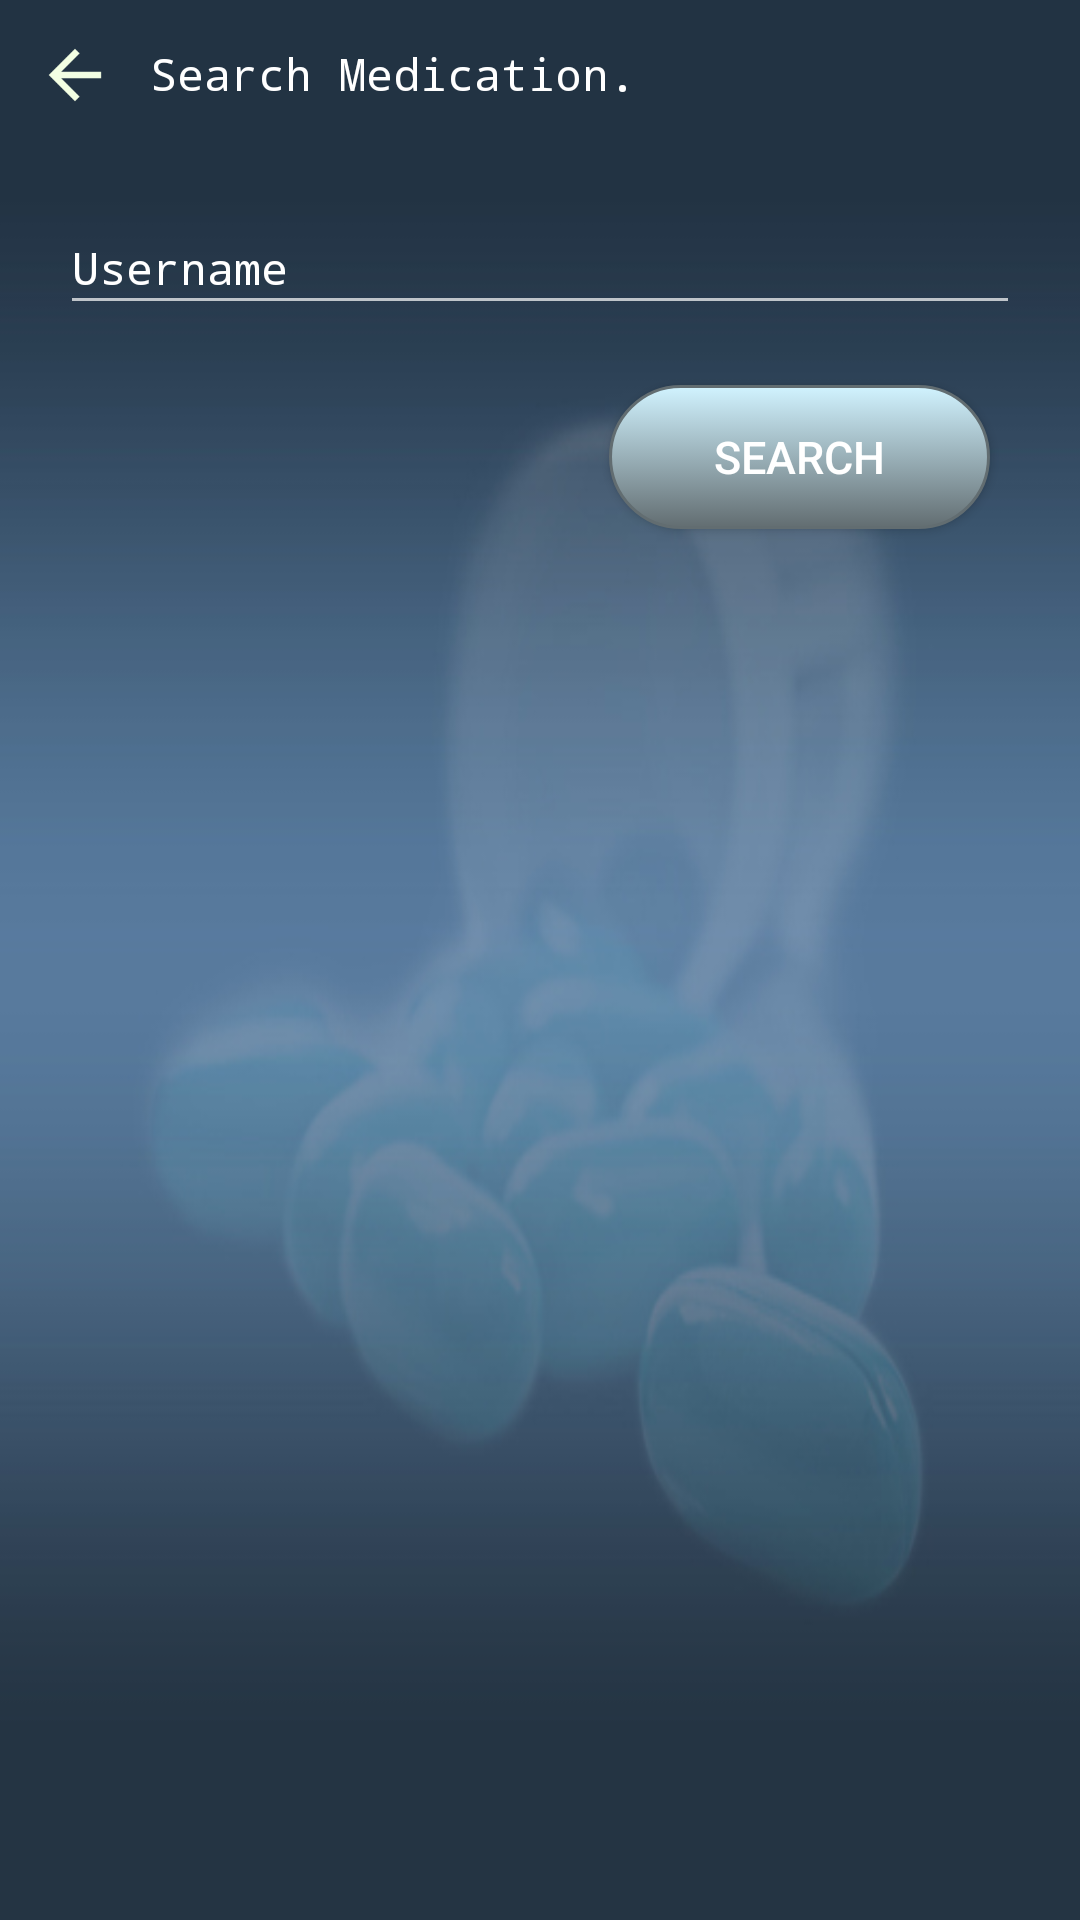

Icon click points for this 1080x1920 phone screenshot, format point (x, y):
arrow back: point (75, 75)
